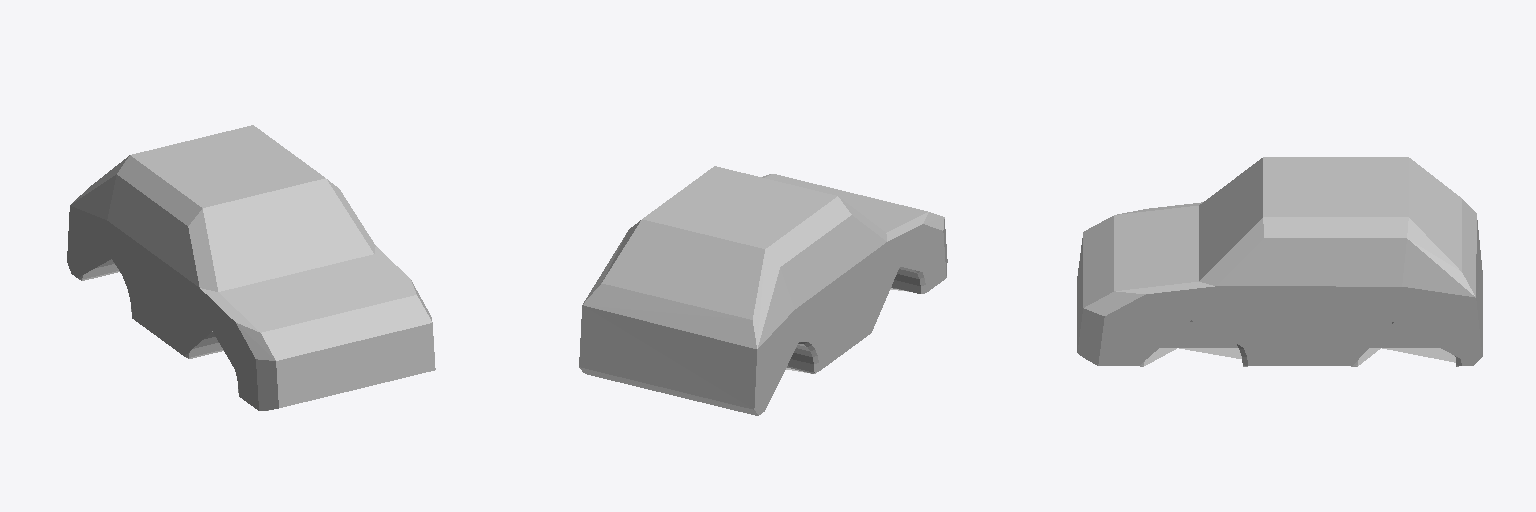
The model's file is car.obj.
The picture shows the model from 3 angles: view 1: azimuth 30°, elevation 25°; view 2: azimuth 150°, elevation 25°; view 3: azimuth 270°, elevation 25°; orthographic projection.
Parts seen in each view (by area): view 1: Cube; view 2: Cube; view 3: Cube.
Part boxes in pixels (bbox=[...]): Cube: bbox=[67, 125, 435, 410]; Cube: bbox=[579, 166, 947, 415]; Cube: bbox=[1077, 157, 1482, 366].
Bounding box in the file's own units: 2 × 1.5 × 4.